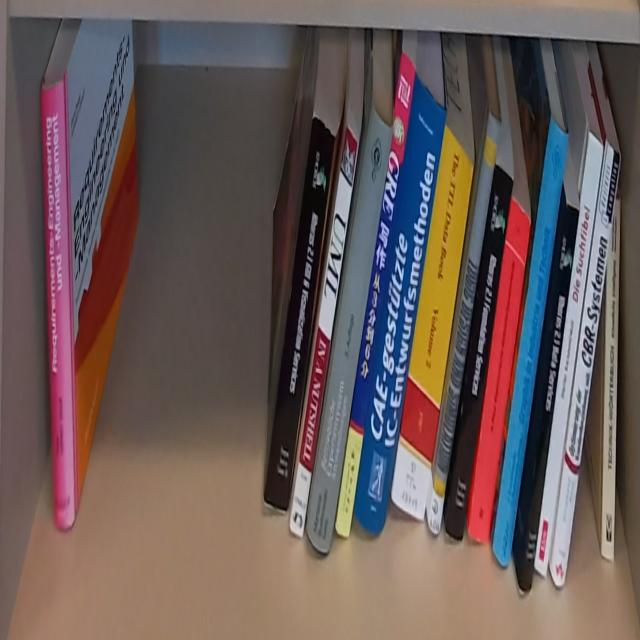Book Spine: (355, 68, 447, 537), (335, 50, 415, 543), (307, 104, 391, 556), (492, 116, 568, 568), (389, 123, 474, 526), (548, 141, 623, 587), (425, 106, 501, 538), (534, 128, 604, 582), (262, 109, 336, 522), (289, 124, 360, 538), (444, 164, 513, 538), (518, 193, 580, 594), (472, 201, 530, 544), (40, 81, 75, 529), (602, 197, 622, 565)
